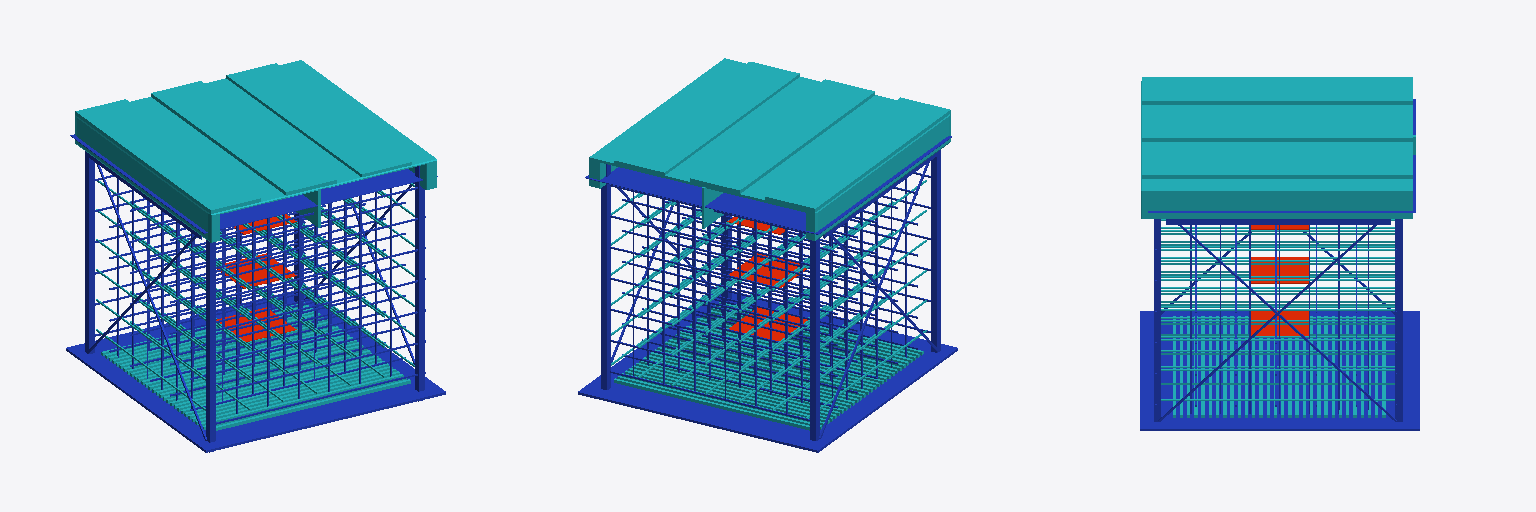
The model's file is gzm.obj.
The picture shows the model from 3 angles: view 1: azimuth 30°, elevation 25°; view 2: azimuth 150°, elevation 25°; view 3: azimuth 270°, elevation 25°; orthographic projection.
Visible parts, largest first — view 1: ???_6, ???, ?, ???_1_3, ???_0_3, ???_2_3, ???.1, ???_1, ???_2; view 2: ???_6, ???, ?, ???_3_3, ???_2_3, ???_0_3, ???.2, ???_1, ???_2; view 3: ???_6, ???, ???_3_3, ???_1_3, ???_5, ???_2, ???_1, ?, ???.4, ???.3.
Part boxes in pixels (x1,y1,x2,y2): ???_6: (75,60,436,242); ???: (66,293,445,452); ?: (70,134,437,233); ???_1_3: (415,166,424,401); ???_0_3: (206,240,215,452); ???_2_3: (85,151,94,353); ???.1: (96,163,206,440); ???_1: (216,307,296,341); ???_2: (217,253,296,288); ???_6: (589,58,950,240); ???: (578,293,957,452); ?: (585,136,951,234); ???_3_3: (601,164,610,389); ???_2_3: (810,238,819,440); ???_0_3: (931,150,940,352); ???.2: (819,162,929,438); ???_1: (729,307,807,340); ???_2: (729,253,806,287); ???_6: (1141,77,1412,218); ???: (1140,311,1419,430); ???_3_3: (1395,219,1402,421); ???_1_3: (1154,219,1160,421); ???_5: (1166,219,1390,224); ???_2: (1251,257,1308,283); ???_1: (1251,311,1308,335); ?: (1148,99,1415,212); ???.4: (1178,225,1396,421); ???.3: (1158,225,1376,421).
Size of the model in its own units: 544 by 535 by 551.